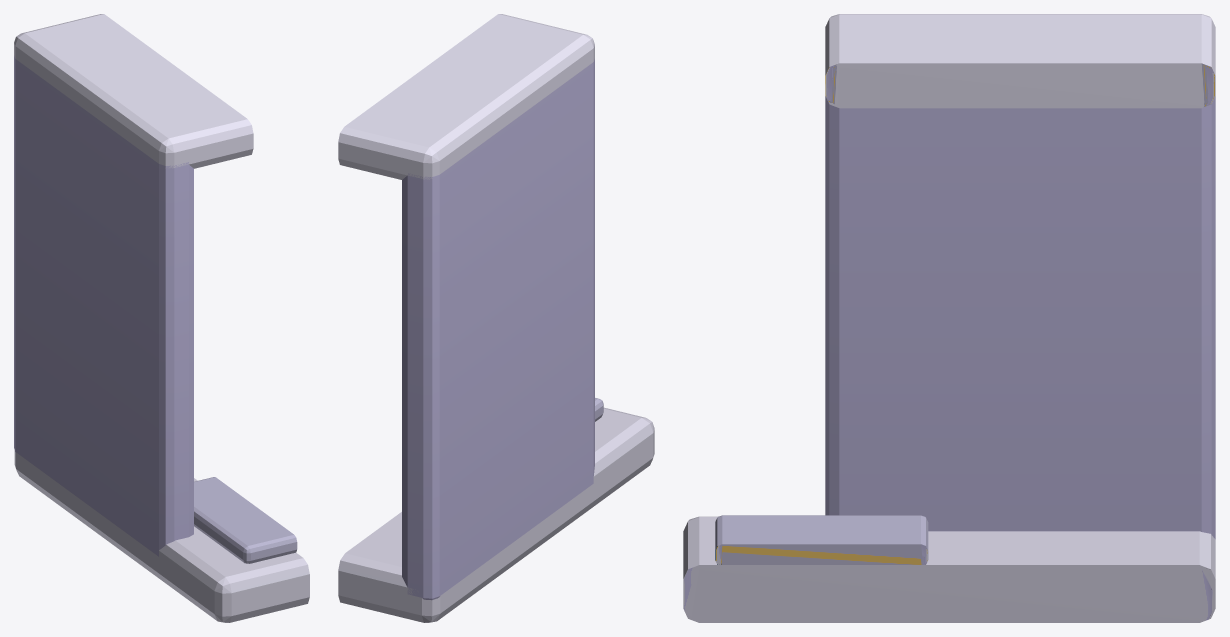
The model's file is SM_ModularShelf_LeftEnd.fbx.
3 views of the same model, side by side, from view 1: azimuth 30°, elevation 25°; view 2: azimuth 150°, elevation 25°; view 3: azimuth 270°, elevation 25° (orthographic). The views are drawn at different scales.
Parts seen in each view (by area): view 1: SM_ModularShelf_LeftEnd; view 2: SM_ModularShelf_LeftEnd; view 3: SM_ModularShelf_LeftEnd.
Part boxes in pixels (bbox=[...]): SM_ModularShelf_LeftEnd: bbox=[14, 14, 309, 622]; SM_ModularShelf_LeftEnd: bbox=[338, 14, 654, 622]; SM_ModularShelf_LeftEnd: bbox=[683, 14, 1215, 622].
Bounding box in the file's own units: 0.365 × 1.74 × 1.5.
